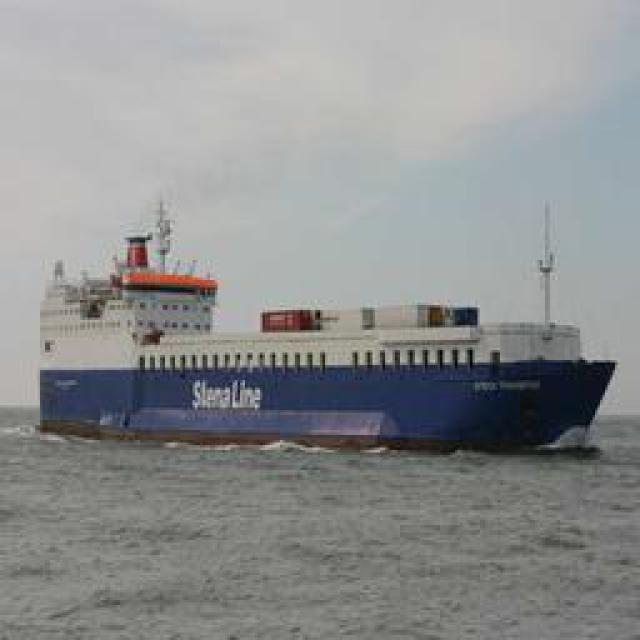Ship: (27, 197, 610, 450)
